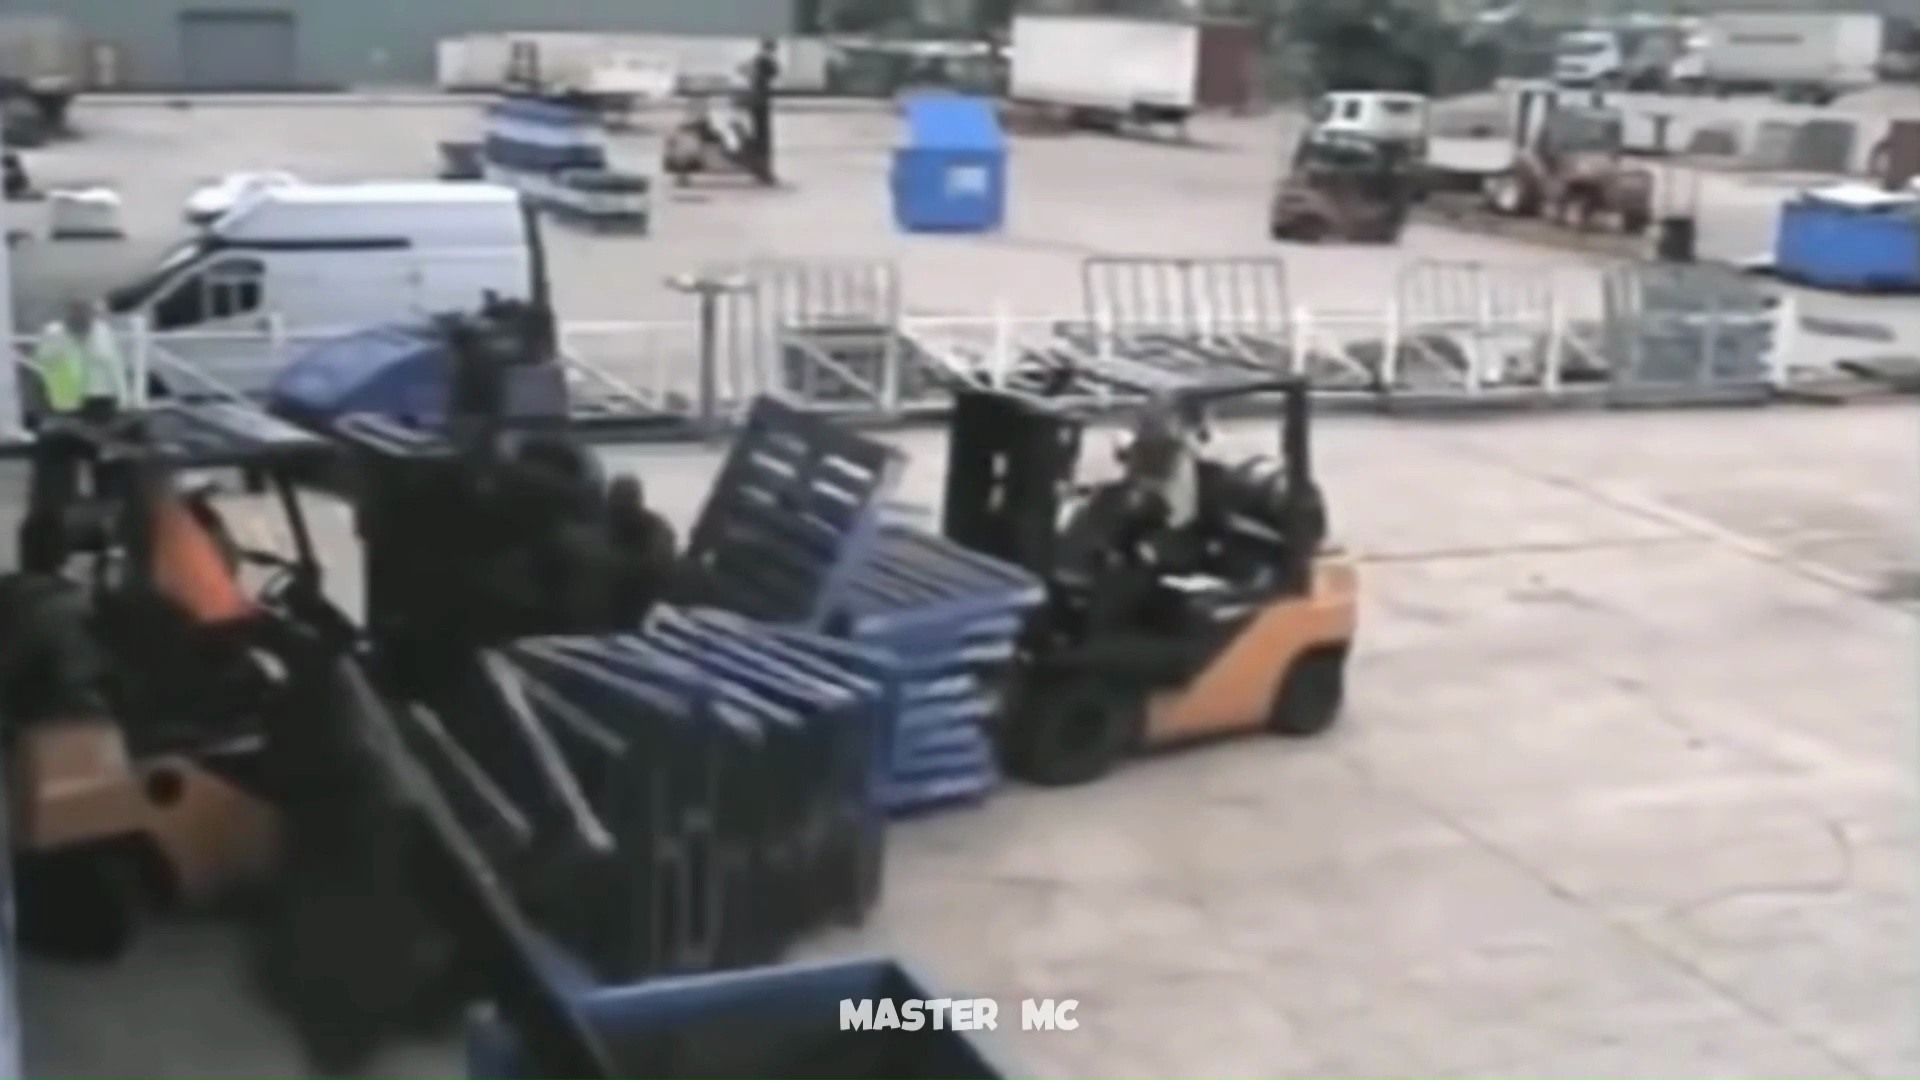forklift: (3, 388, 640, 930), (906, 330, 1367, 819)
